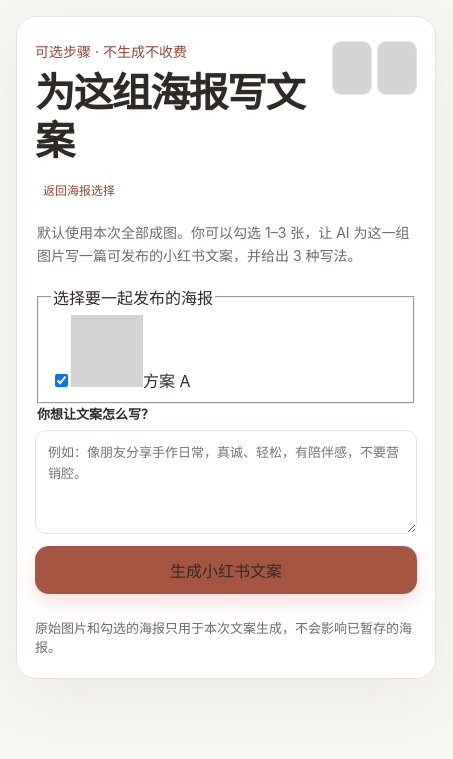
Test case: CopyScreen › keeps the selected poster flow intact when copy generation fails
Click the button "生成小红书文案": [226, 570] box x1=35 y1=546 x2=417 y2=594
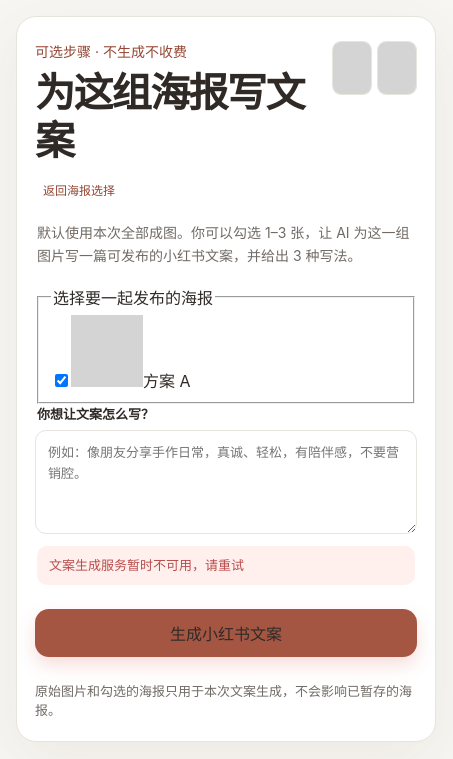
Result: the message reads "文案生成服务暂时不可用，请重试" at x1=49 y1=557 x2=244 y2=573
